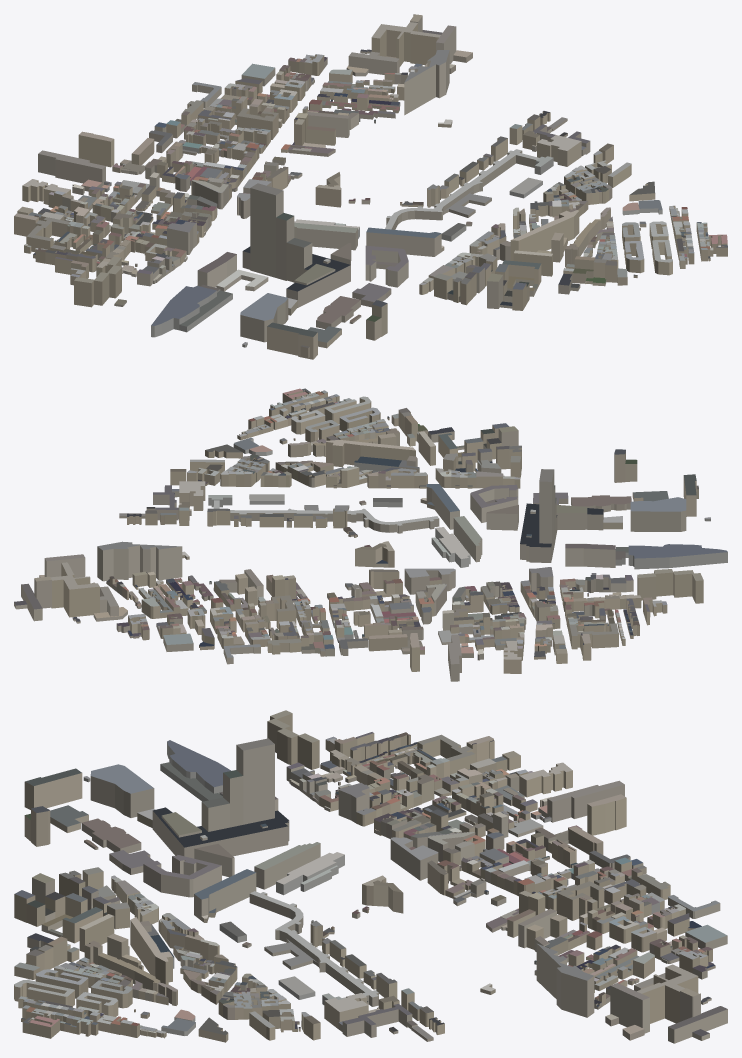
The picture shows the model from 3 angles, top to bottom: view 1: azimuth 30°, elevation 25°; view 2: azimuth 150°, elevation 25°; view 3: azimuth 270°, elevation 25°; orthographic projection. The views are drawn at different scales.
Visible parts, largest first — view 1: tuile; view 2: tuile; view 3: tuile.
Part boxes in pixels (x1=…): tuile: x1=14, y1=14, x2=727, y2=359; tuile: x1=14, y1=388, x2=727, y2=681; tuile: x1=14, y1=710, x2=727, y2=1043.
Bounding box in the file's own units: 1056 × 153 × 1037.
